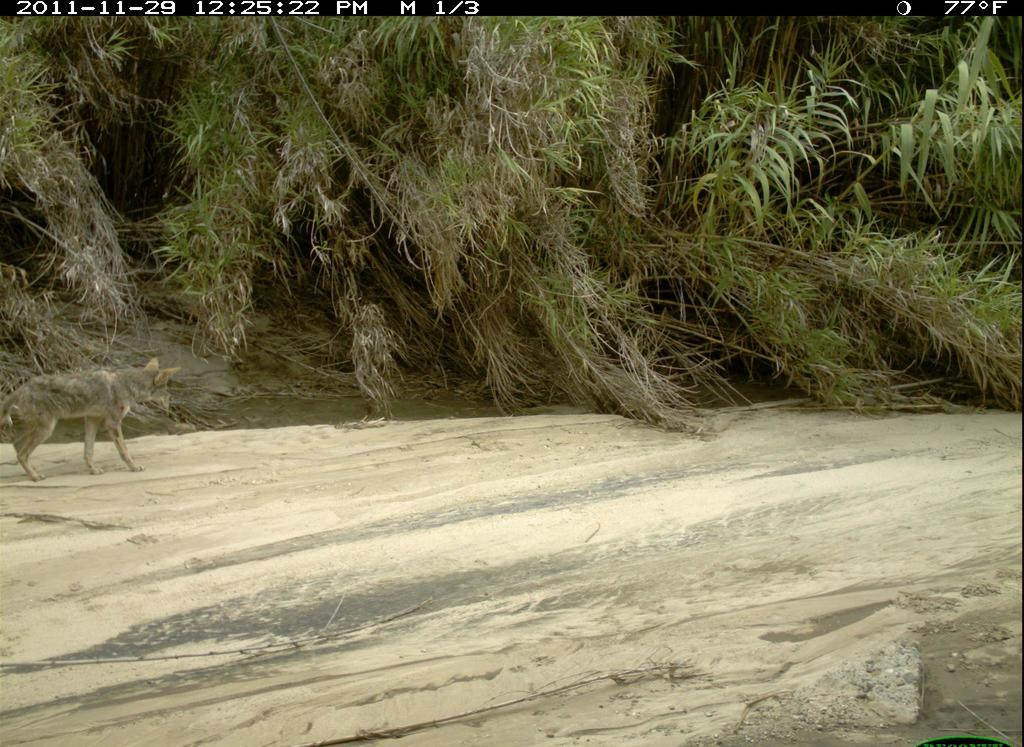coyote: (1, 359, 181, 487)
